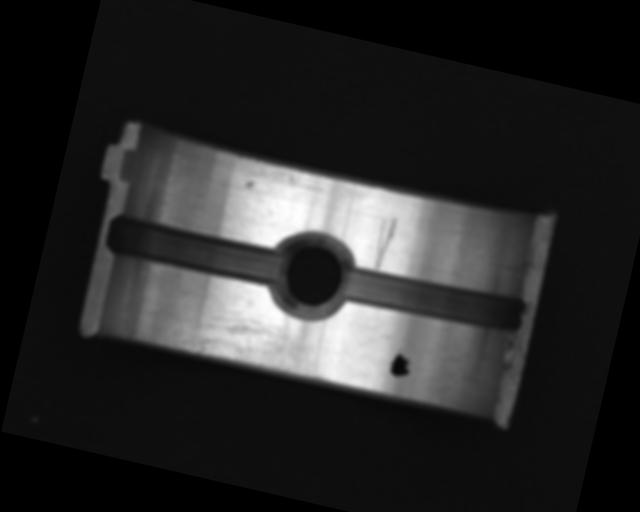blot: (386, 345, 416, 381)
bruise: (244, 179, 256, 190)
gap: (337, 254, 533, 343), (103, 208, 289, 291)
hole: (265, 227, 357, 325)
nick: (369, 214, 400, 273)
scratch: (162, 298, 341, 387)
